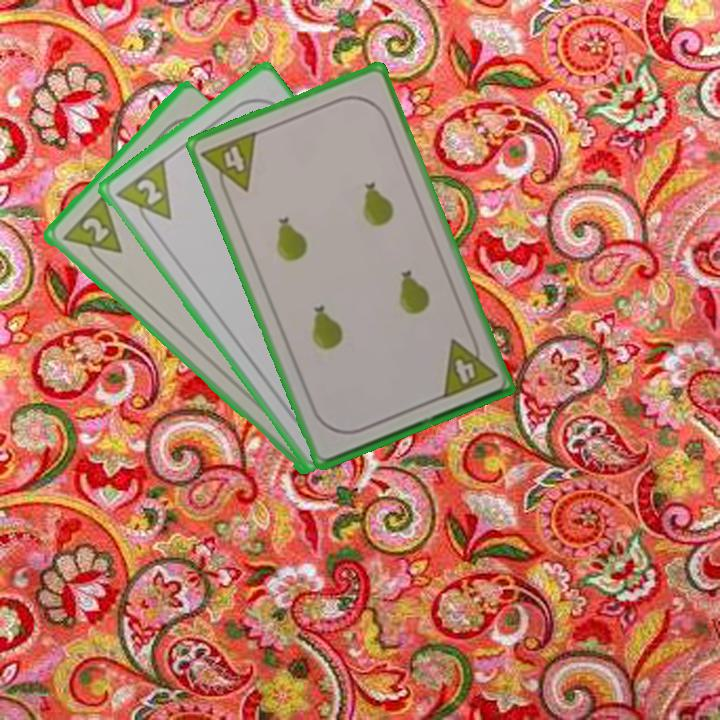2p: (58, 193, 125, 272), (111, 156, 175, 235)
4p: (197, 127, 260, 202), (437, 330, 500, 402)
